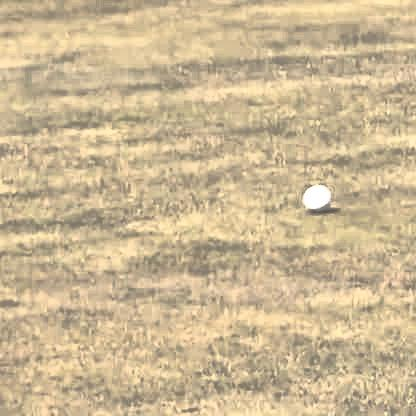golfball: (299, 181, 329, 211)
